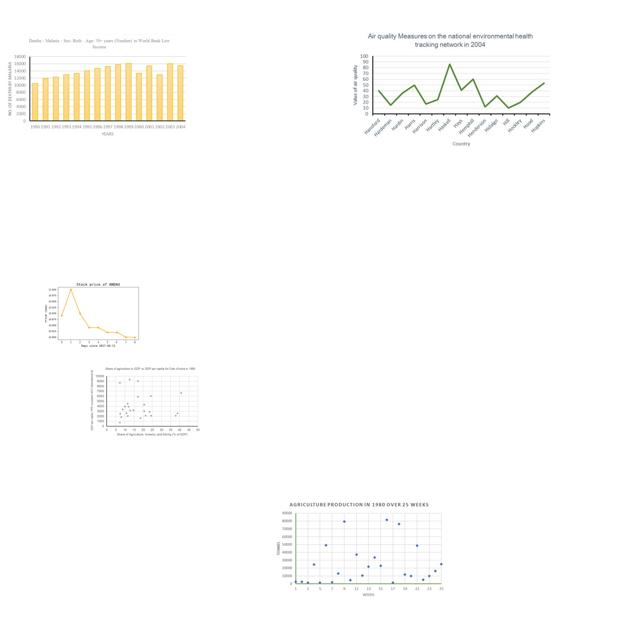Graph: (349, 29, 554, 150), (3, 34, 190, 139), (276, 502, 445, 598), (88, 363, 201, 438), (45, 274, 149, 352)
